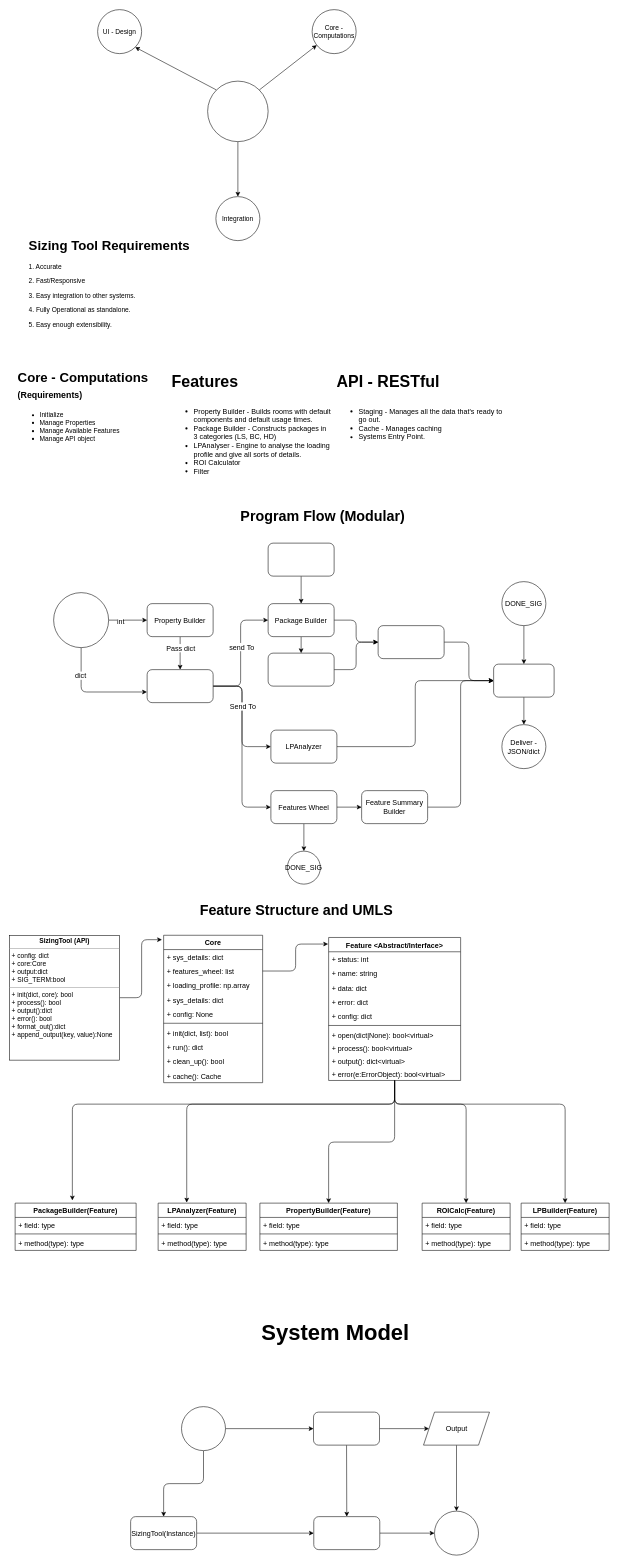
Image size: 619x1565. Some labels were removed from this diagram. The shapes that lost their labels are listed below. From the top down, each one's centre as x and y in pixels, then its label:
At (237,111): "Sizing Tool".
At (301,559): "System Filter".
At (81,620): "Start - Initialise (dict/int)".
At (411,642): "ROI Calculator".
At (180,686): "Build Load Profile/ Load Typical Profile.".
At (301,669): "Filter".
At (523,680): "API (staging)".
At (203,1428): "Input".
At (346,1428): "Process".
At (346,1533): "Core(Instance)".
At (456,1533): "JSON".
